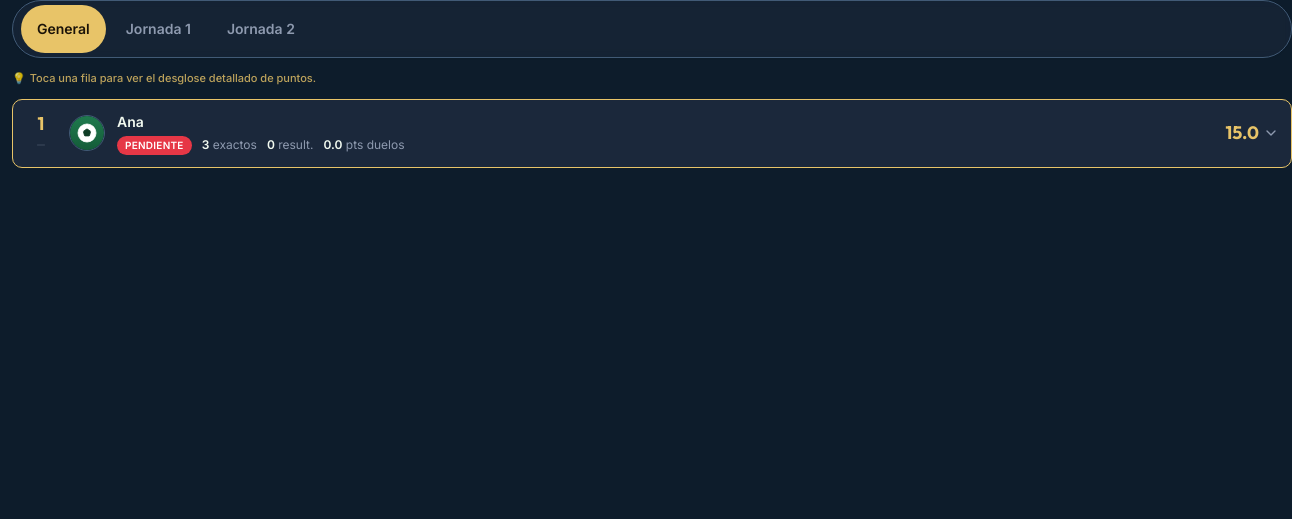
Test: StandingsTable › Accordion – desglose de puntos › ordena las fases descendentemente y dentro de cada fase por match_time desc
Click the button with test id "standings-row-toggle" at (87, 133), box [25,112,1279,154]
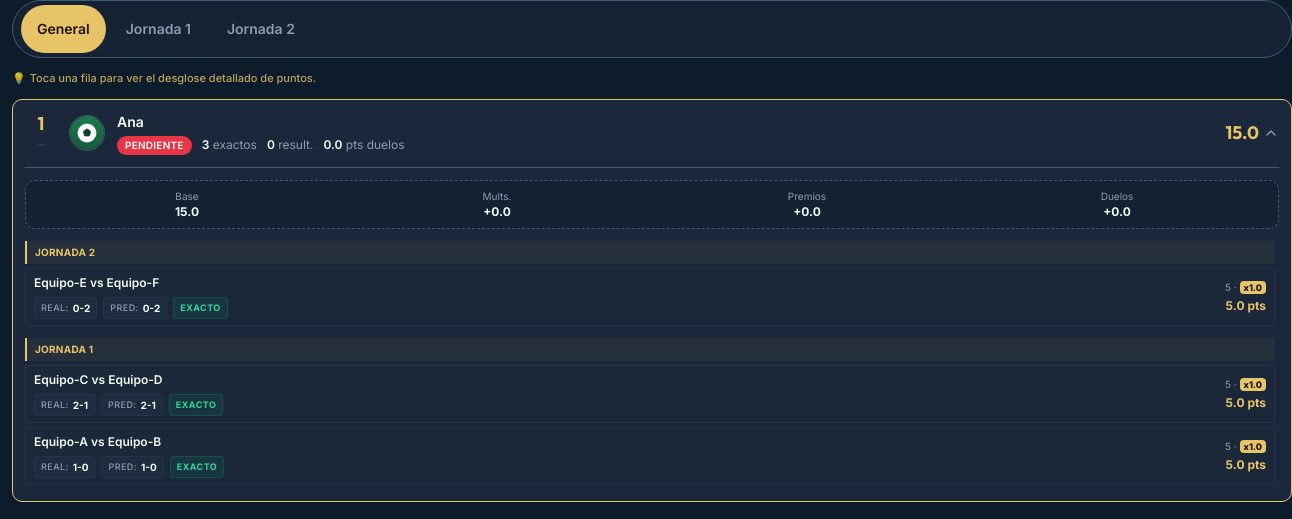
Result: the text with test id "standings-phase-header" reads "Jornada 2" at [35,246,95,258]
Result: the text with test id "standings-phase-header" reads "Jornada 1" at [35,342,93,354]
Result: the element with test id "standings-match-detail" shows "Equipo-E vs Equipo-F" at [25,268,1275,326]
